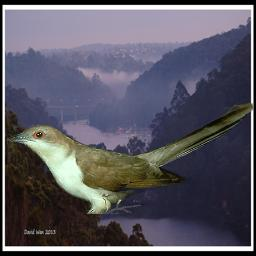Cuckoo: (7, 101, 254, 214)
